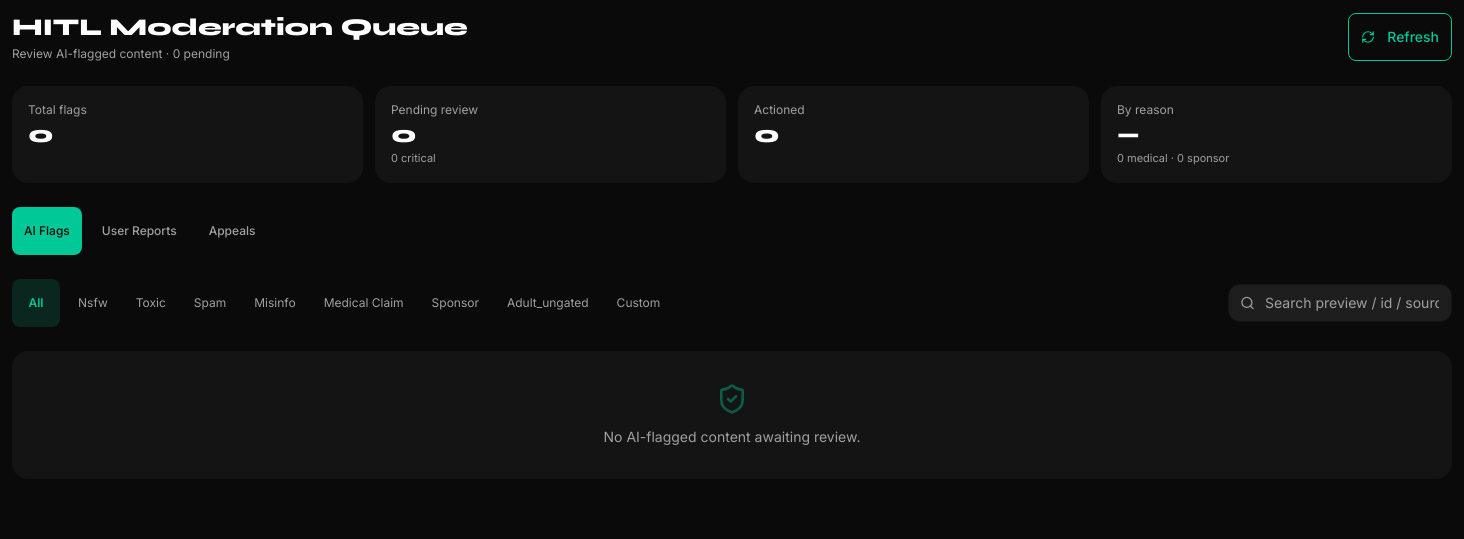
Test: ModerationQueue — appeal review sends resolution_note (regression) › asks for a note before an appeal can be approved
Click the button "Appeals".
click(232, 230)  # box [197,206,267,254]
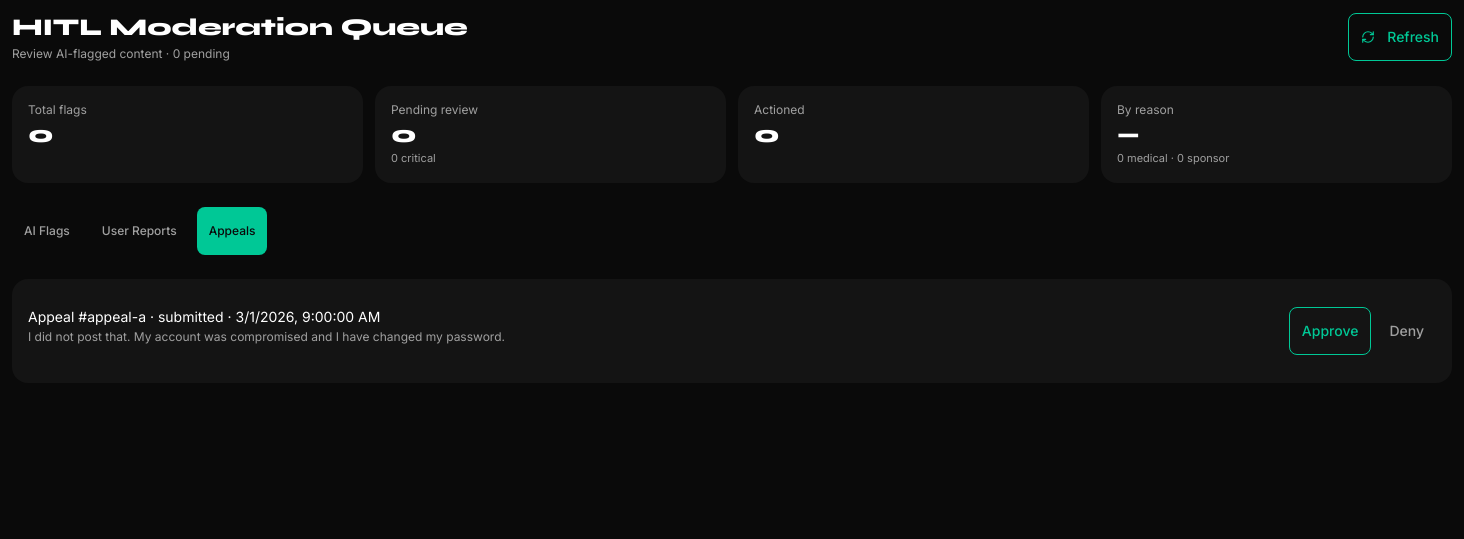
Now the text "Appeal #appeal-a · submitted · 3/1/2026, 9:00:00 AM" is shown, box [28,308,380,324]
Click the button "Approve".
click(1330, 330)  # box [1289,306,1371,354]
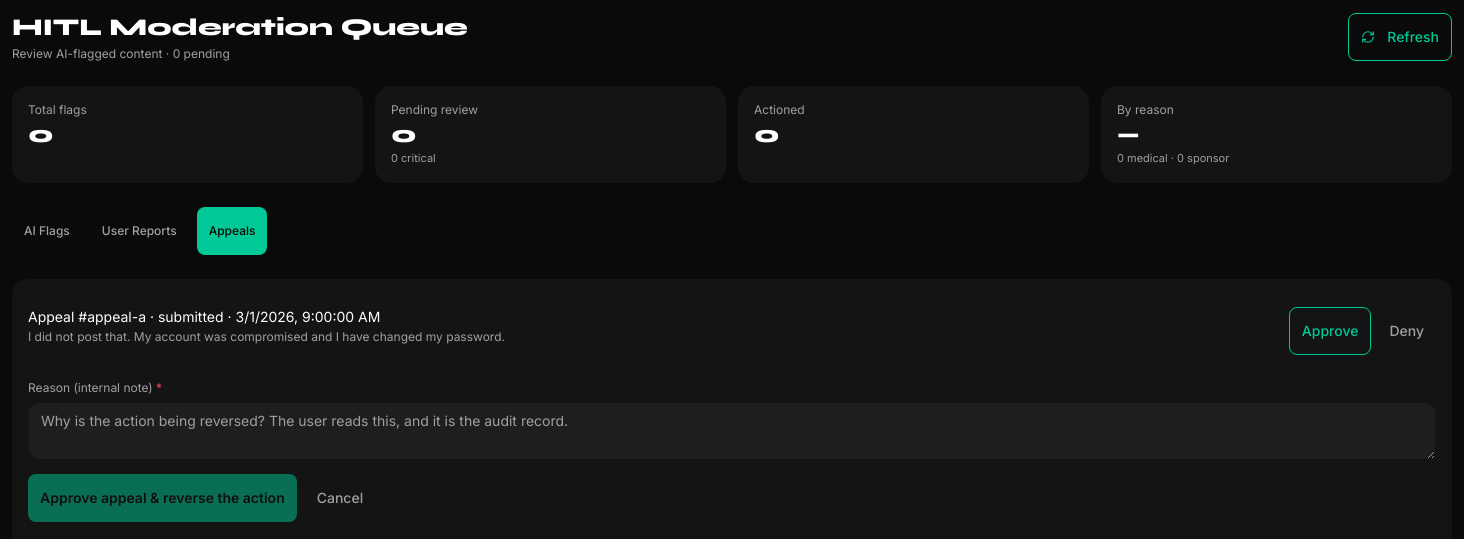
Now the button "Approve appeal & reverse the action" is disabled, box [28,474,297,522]
